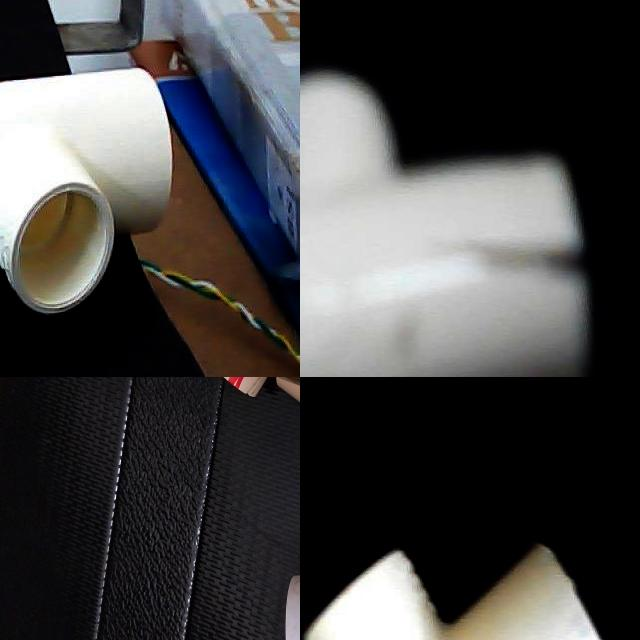Defective: (458, 214, 582, 294), (153, 565, 188, 640), (238, 567, 292, 607), (210, 452, 240, 514), (224, 377, 258, 399), (212, 390, 239, 415)
L Joint: (0, 458, 153, 640)
T Joint: (300, 88, 640, 377), (0, 64, 173, 316), (198, 377, 300, 581)
